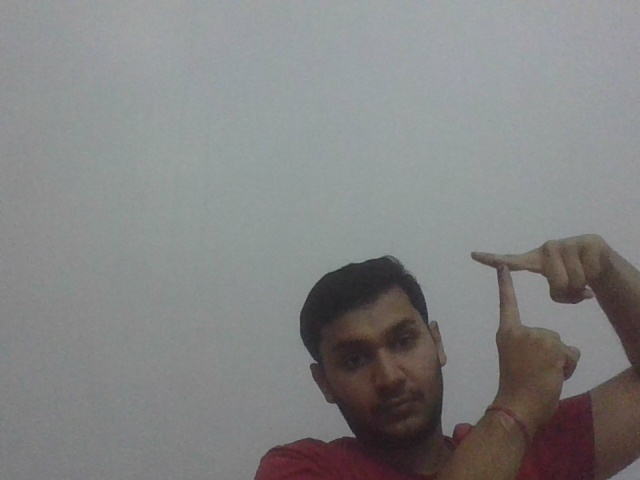T: (467, 246, 533, 322)
